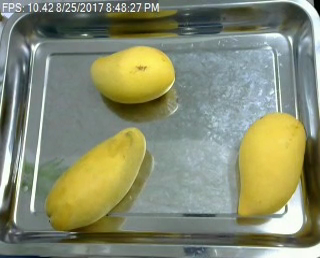Mango: (40, 121, 153, 229), (233, 107, 310, 221), (84, 37, 181, 108)
